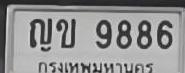6: (156, 18, 173, 49)
8: (115, 19, 132, 49), (136, 19, 152, 49)
9: (95, 19, 112, 49)
A02: (55, 18, 76, 49)
A13: (28, 17, 53, 52)
BKK: (34, 59, 156, 73)
